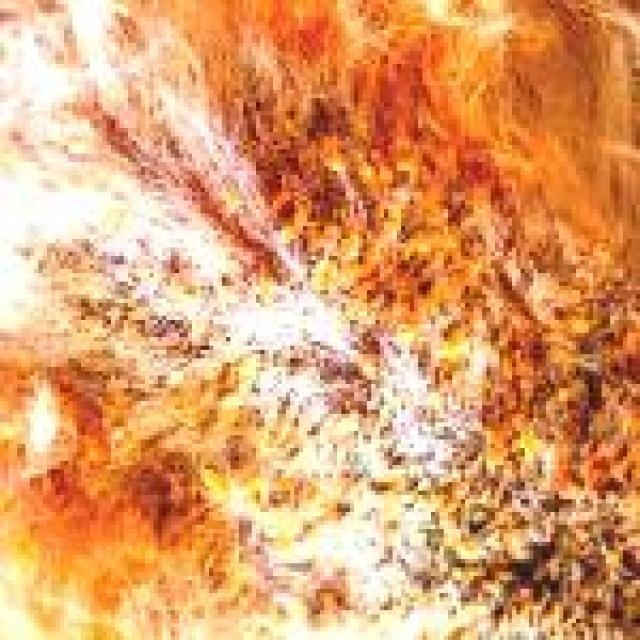fungal infection: (403, 451, 640, 639), (249, 138, 474, 292), (0, 216, 223, 348), (211, 441, 382, 542), (510, 239, 640, 371), (361, 324, 489, 430), (110, 366, 280, 432), (283, 348, 357, 433)
